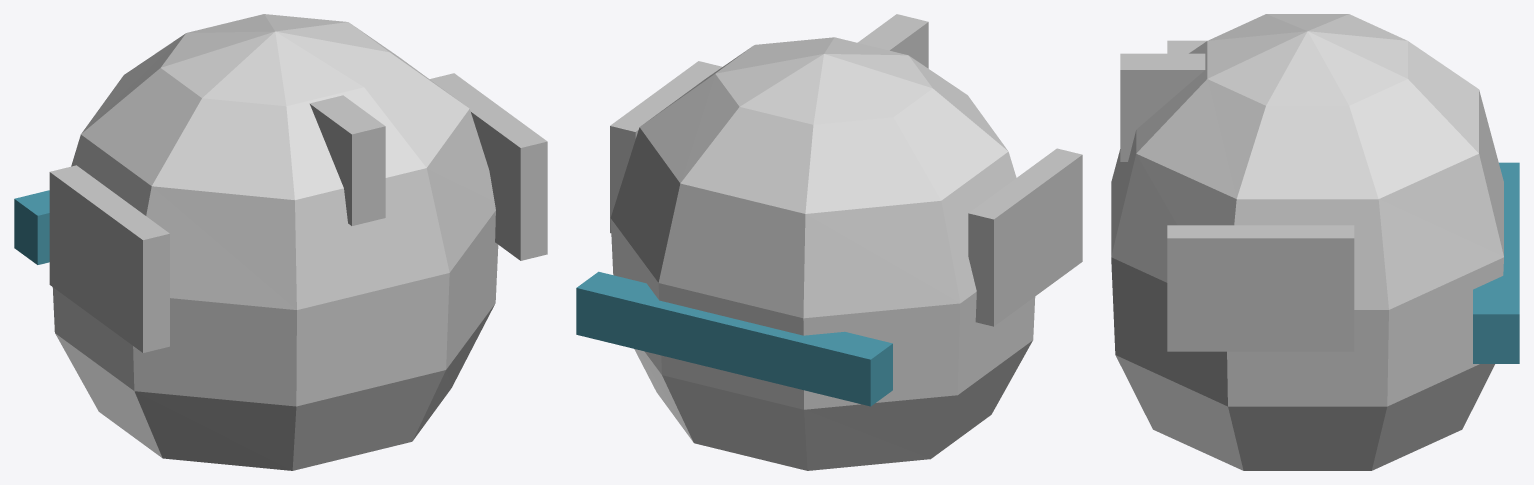
The model's file is person_hat_recon_helm.obj.
The picture shows the model from 3 angles, left to right: view 1: azimuth 30°, elevation 25°; view 2: azimuth 150°, elevation 25°; view 3: azimuth 270°, elevation 25°; orthographic projection. The views are drawn at different scales.
Visible parts, largest first — view 1: person_hat_recon_helm; view 2: person_hat_recon_helm; view 3: person_hat_recon_helm.
Part boxes in pixels (bbox=[...]): person_hat_recon_helm: bbox=[14, 14, 547, 470]; person_hat_recon_helm: bbox=[576, 14, 1082, 470]; person_hat_recon_helm: bbox=[1111, 14, 1519, 470].
Size of the model in its own units: 0.6 by 0.522 by 0.5237.
